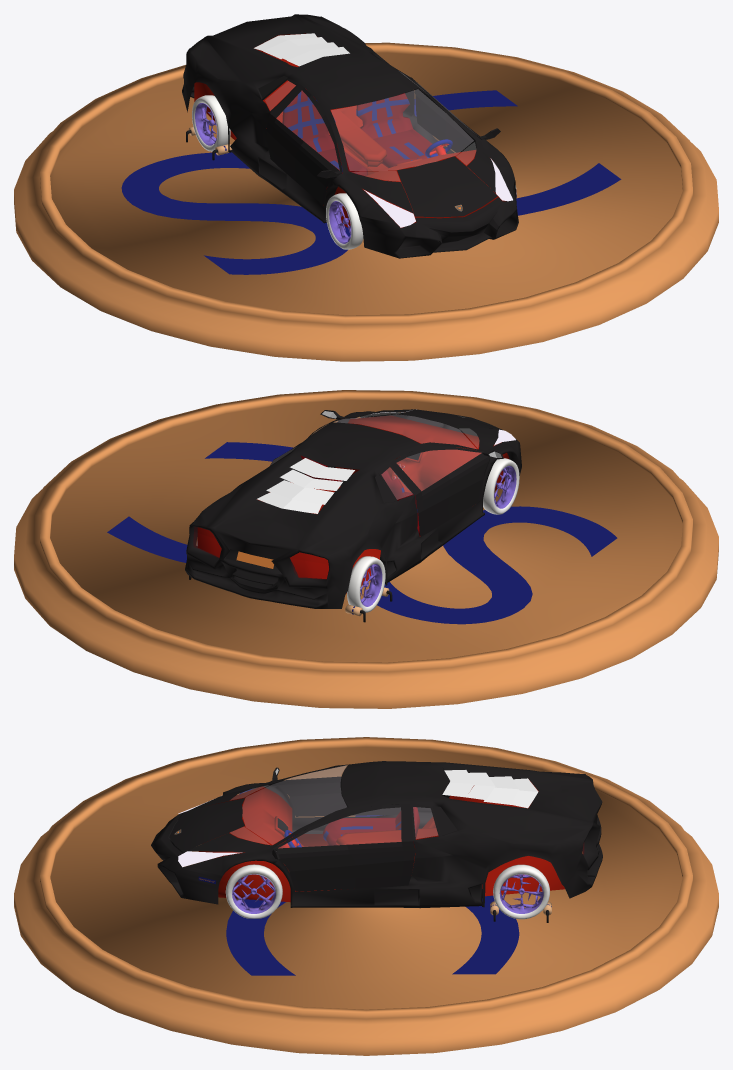
Rendered from LamborghVen.glb.
The picture shows the model from 3 angles, top to bottom: view 1: azimuth 30°, elevation 25°; view 2: azimuth 150°, elevation 25°; view 3: azimuth 270°, elevation 25°; orthographic projection.
Visible parts, largest first — view 1: Ground, Case; view 2: Ground, Case; view 3: Ground, Case.
Part boxes in pixels (x1,y1,x2,y2): Ground: (14,42,718,361); Case: (182,14,518,258); Ground: (14,390,718,708); Case: (185,409,521,612); Ground: (14,737,718,1055); Case: (151,761,602,919).
Size of the model in its own units: 15.32 by 3.07 by 15.32.
